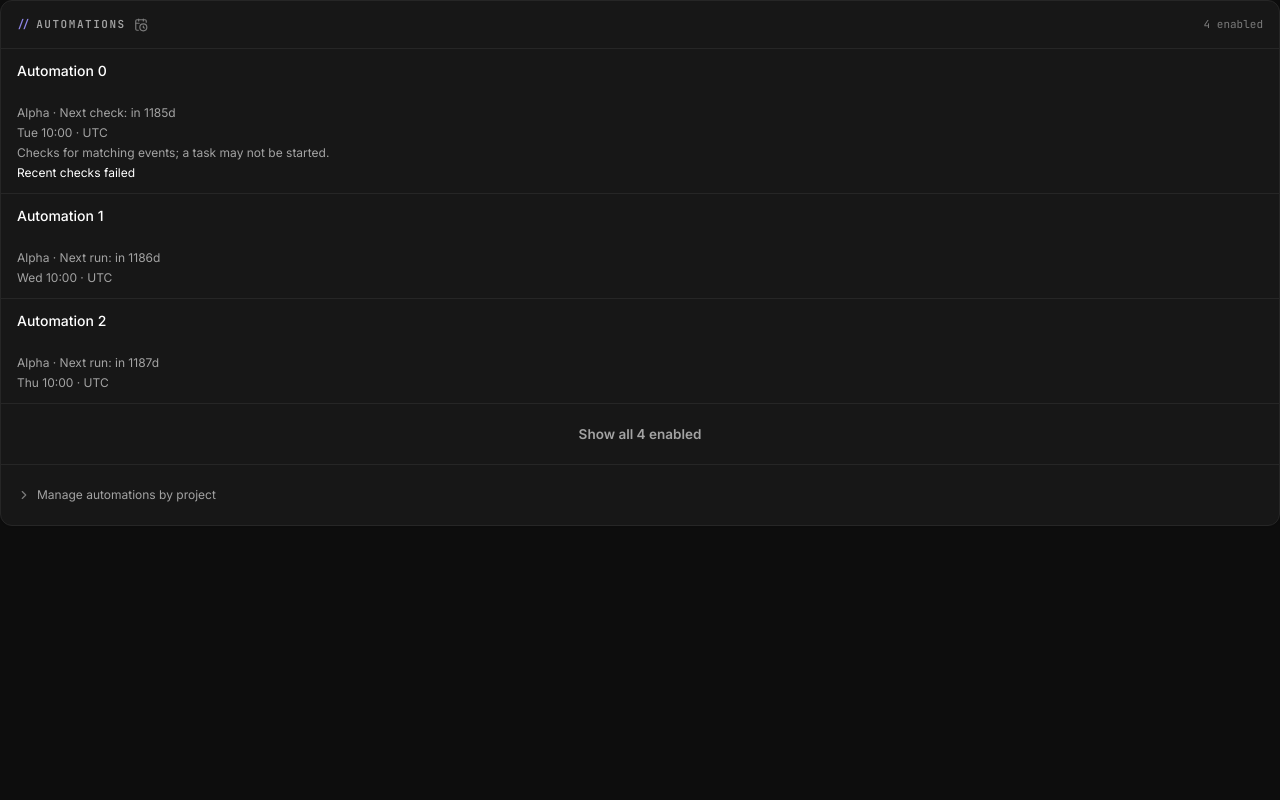
Test: shows three enabled rows, distinguishes polls, links to scoped details and expands
The width and height of the screenshot is (1280, 800).
Check: the text "4 enabled" is shown, box [1204,16,1263,33]
Check: the text "Alpha · Next check: in 1185d" is shown, box [17,105,176,120]
Click the button "Show all 4 enabled". click: (640, 434)
box: [9,412,1271,456]
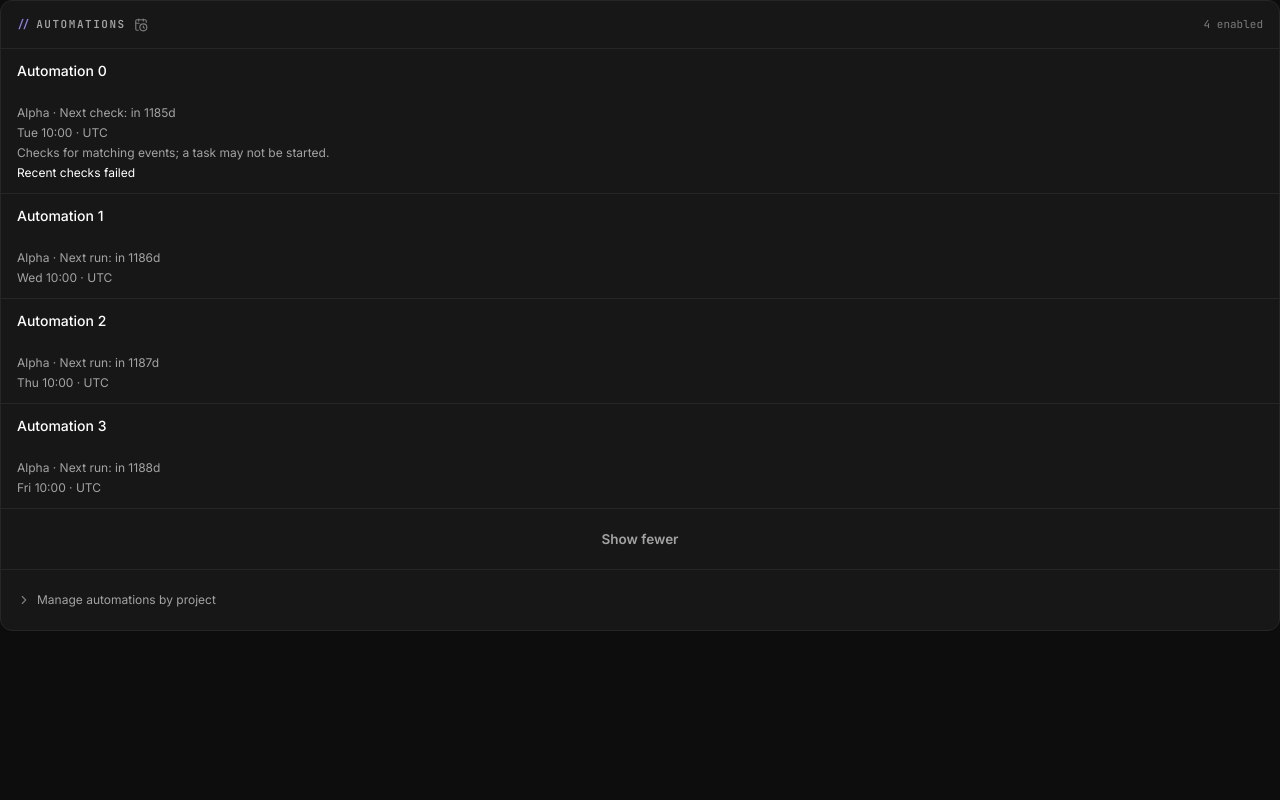
Check: the link "Automation 3" is shown, box [17,417,106,434]
